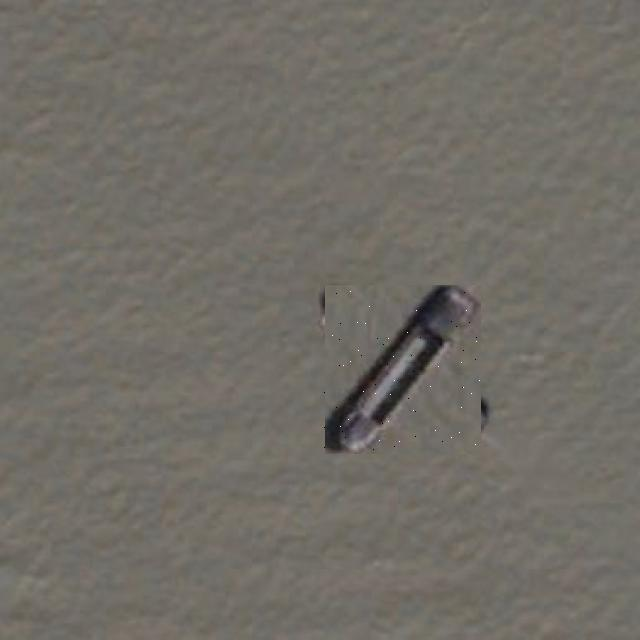boat: (322, 288, 484, 450)
